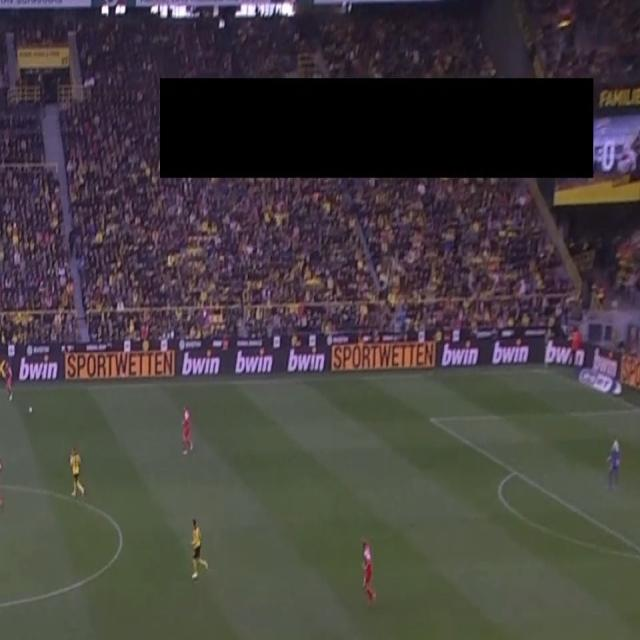ball: (28, 405, 33, 414)
